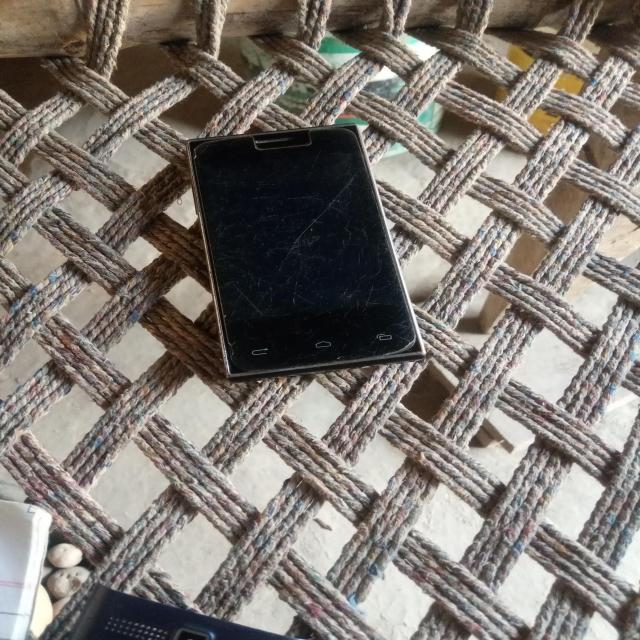mobile: (113, 81, 492, 418)
